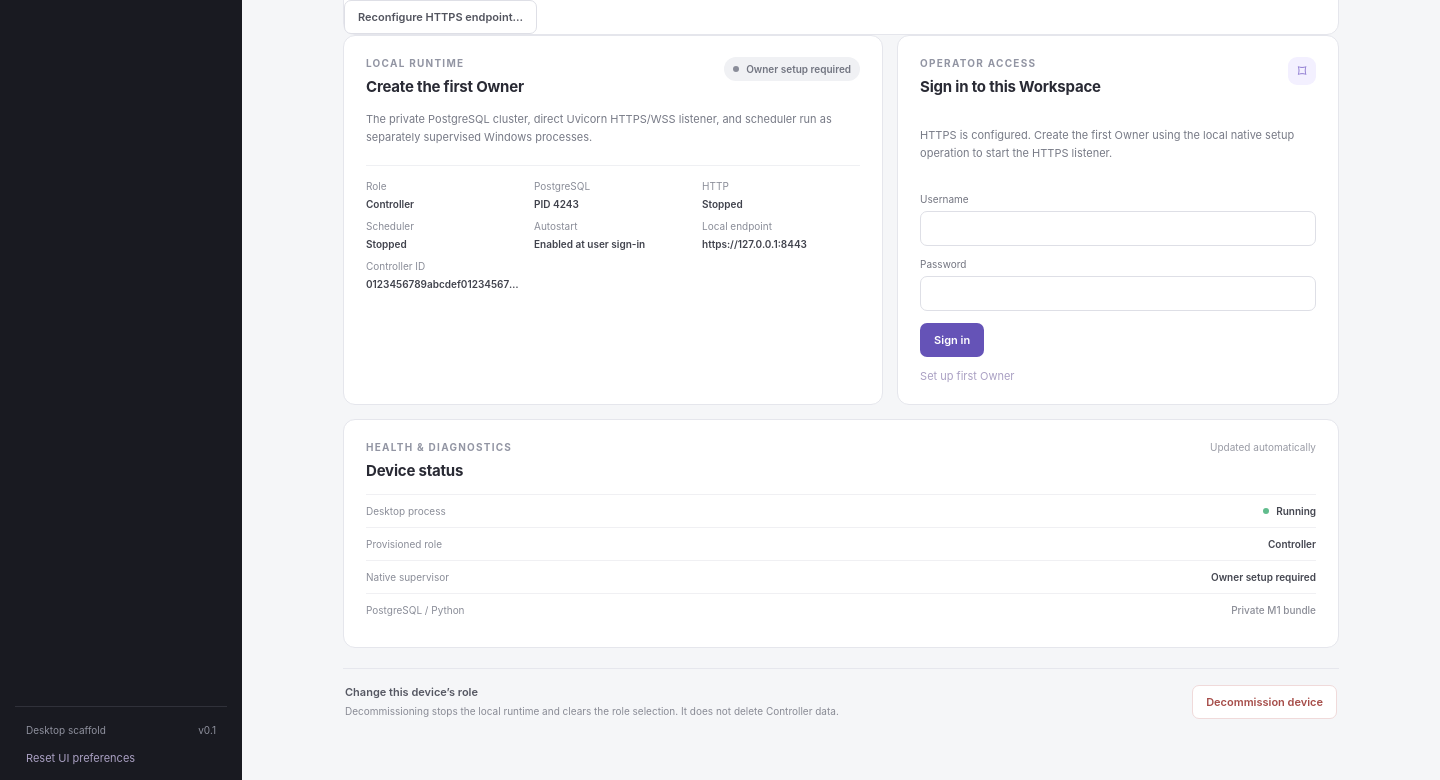
Test: desktop provisioning › keeps the Operator bearer inside Rust during first-Owner login
(page scrolled)
Click the button "Set up first Owner" at (967, 376), box [920,369,1014,383]
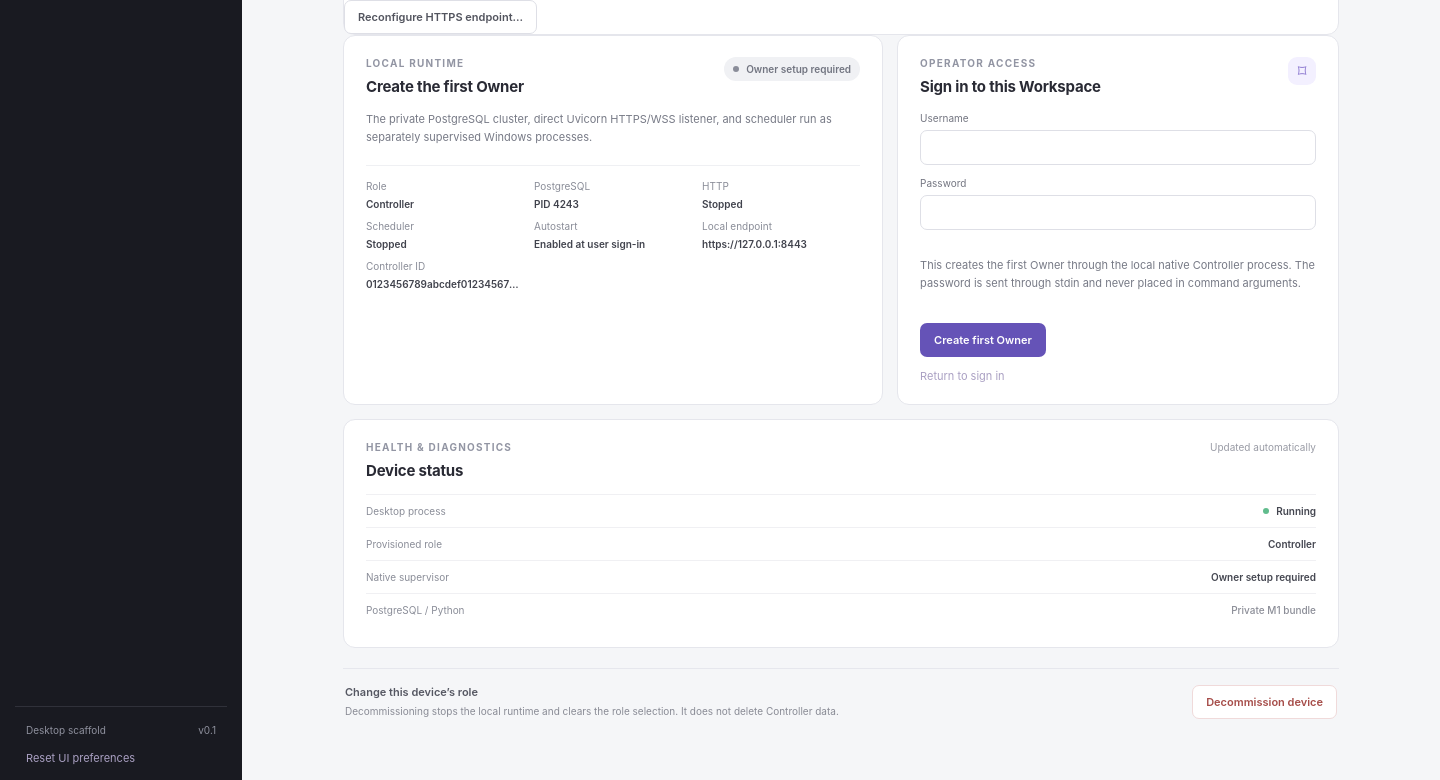
Type "first-owner" into the field labelled "Username" at (1118, 148), box [920,130,1316,165]
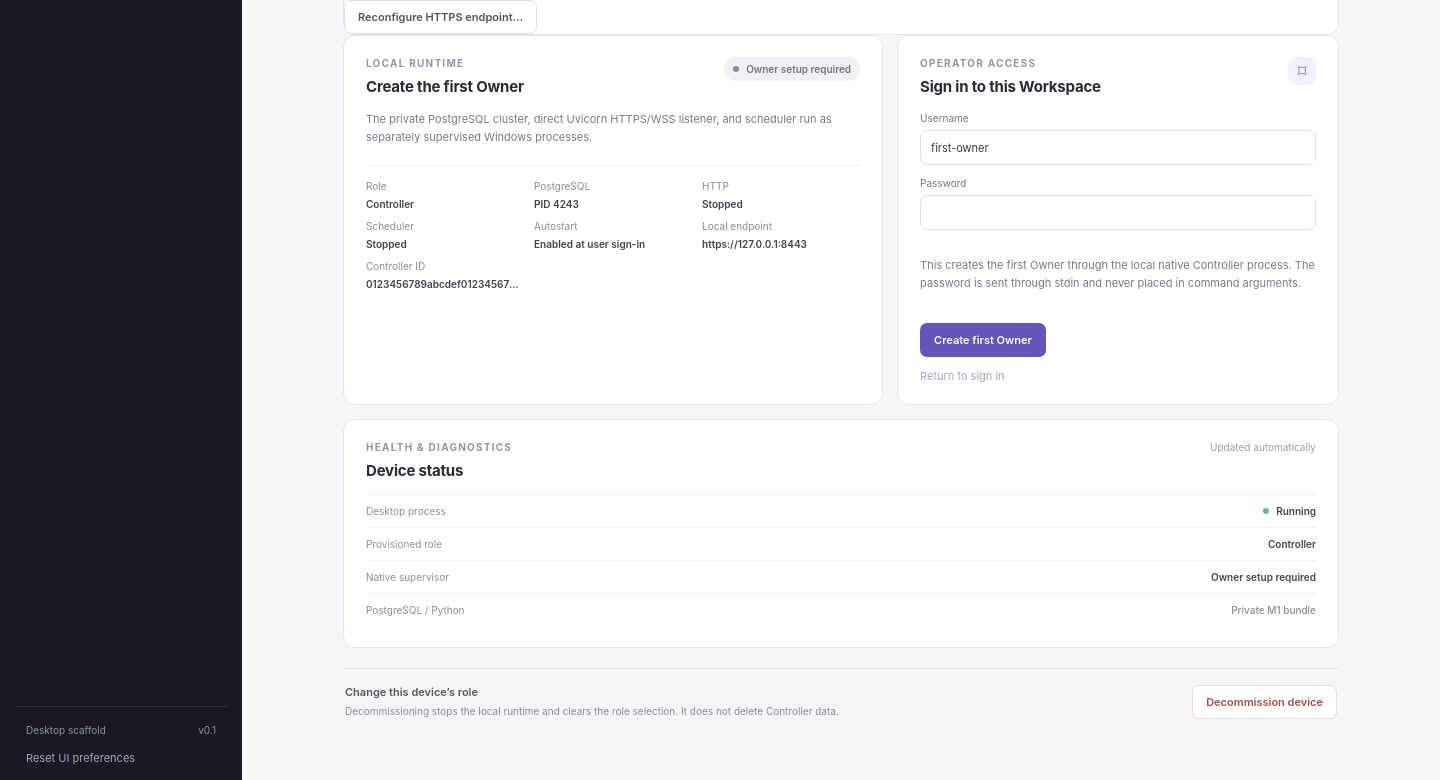
Type "synthetic owner passphrase" into the password field labelled "Password" at (1118, 213), box [920,195,1316,230]
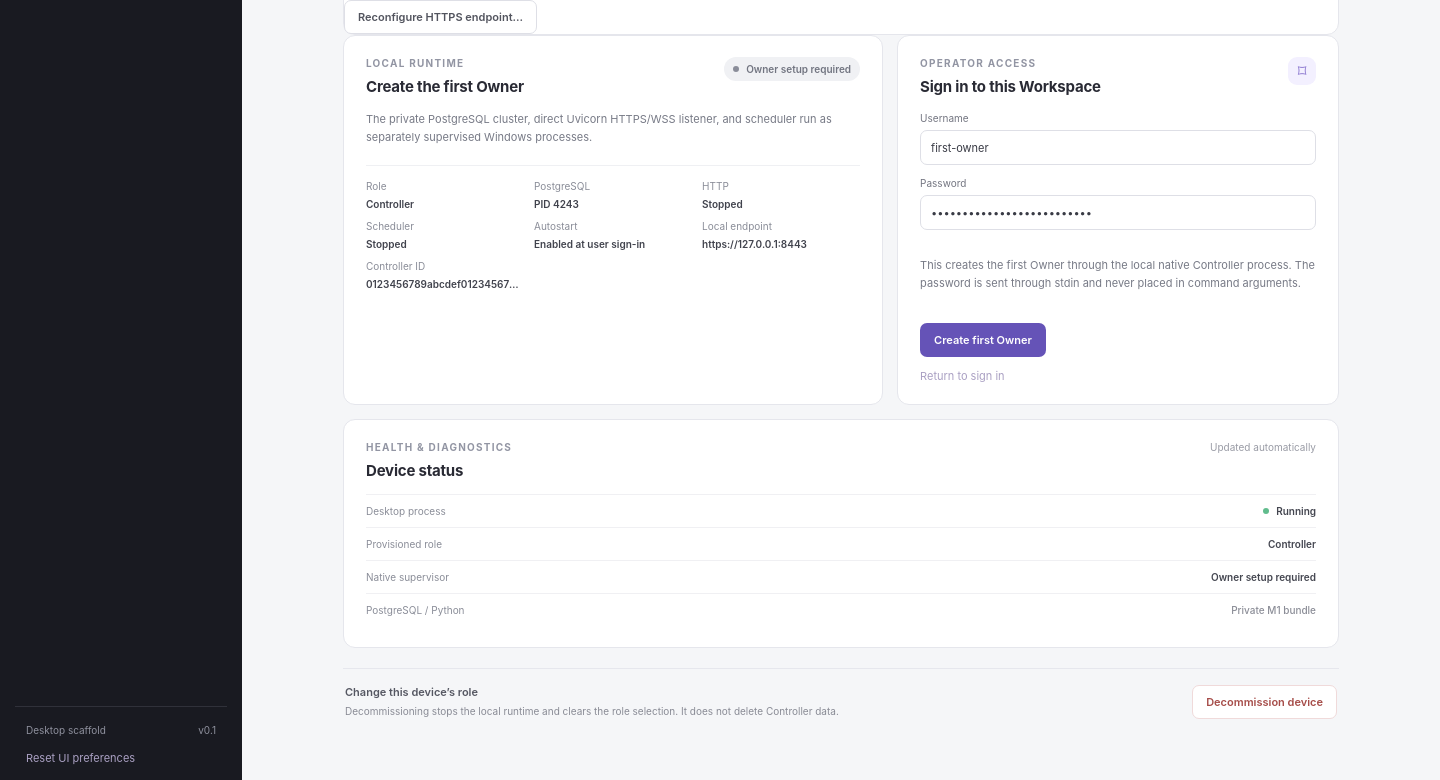
Click the button "Create first Owner" at (983, 340), box [920,323,1046,357]
(page scrolled)
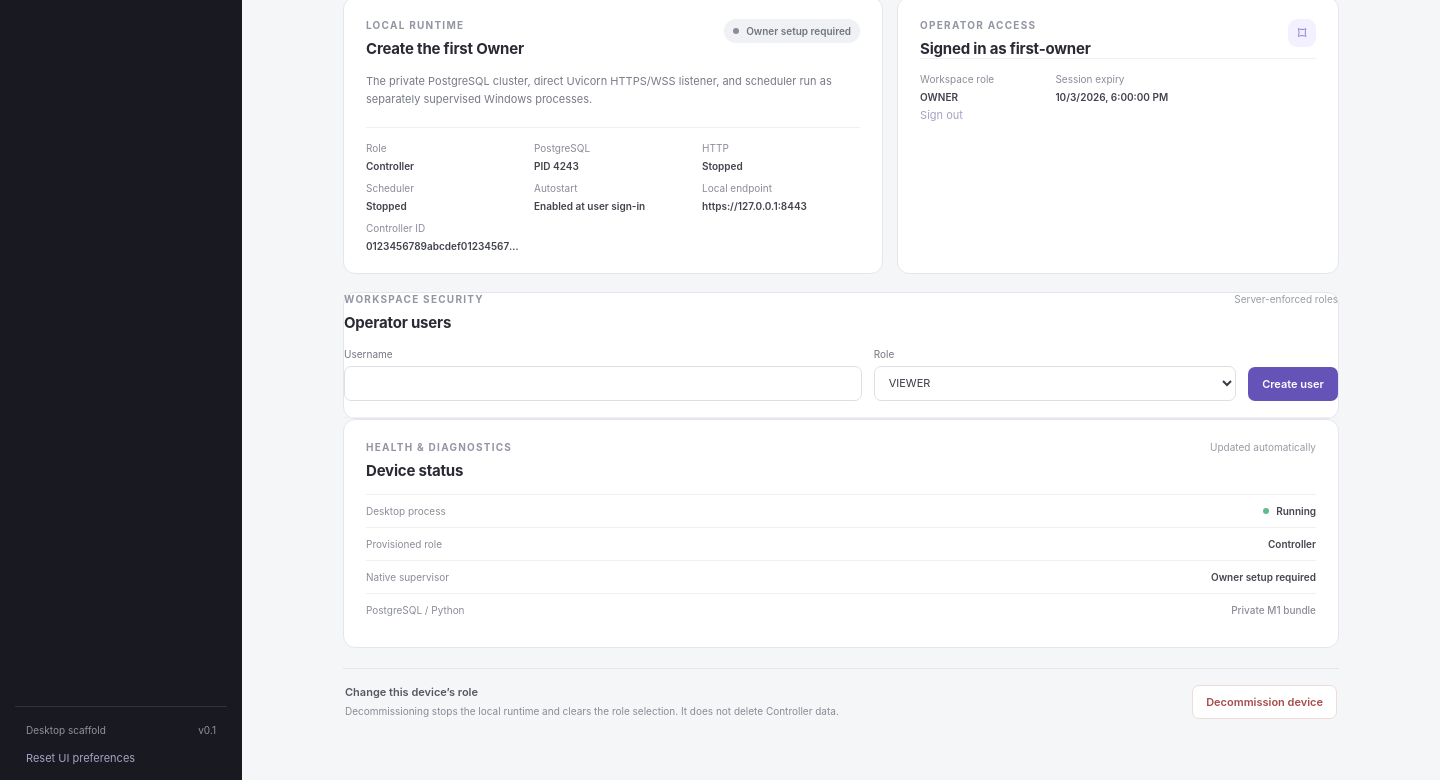
Expected: the heading "Signed in as first-owner" is shown, [920,39,1091,58]
